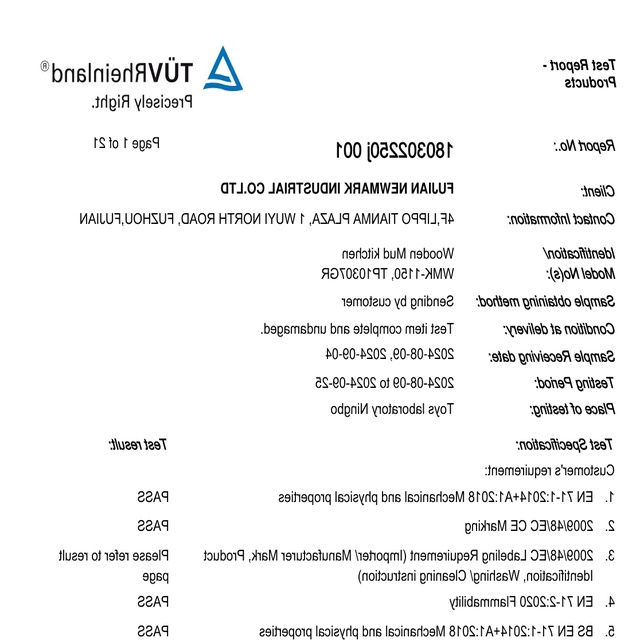tuv_rheinland: (39, 44, 246, 93)
